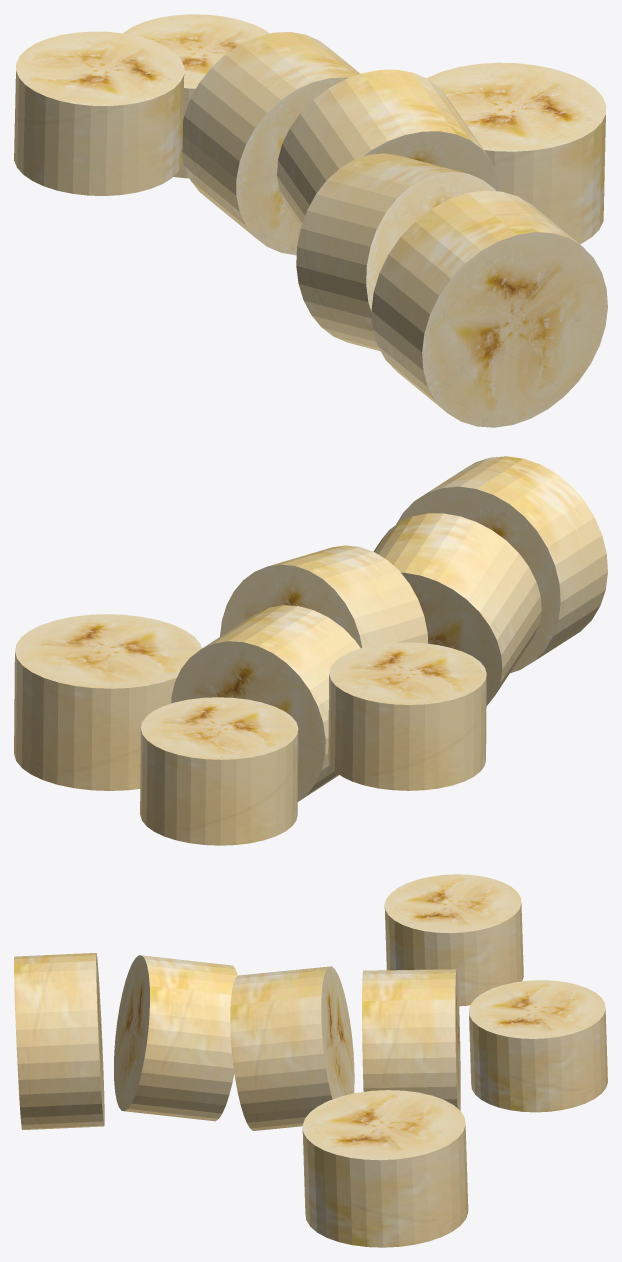
Rendered from cutBanana.obj.
3 renders of one model, top to bottom at view 1: azimuth 30°, elevation 25°; view 2: azimuth 150°, elevation 25°; view 3: azimuth 270°, elevation 25°, orthographic. The views are drawn at different scales.
Parts seen in each view (by area): view 1: Cylinder.002_Cylinder.000, Cylinder.006_Cylinder.007, Cylinder.002, Cylinder.001_Cylinder.008, Cylinder.003_Cylinder.000, Cylinder.005_Cylinder.006, Cylinder.004_Cylinder.005; view 2: Cylinder.001_Cylinder.008, Cylinder.004_Cylinder.005, Cylinder.006_Cylinder.007, Cylinder.002_Cylinder.000, Cylinder.003_Cylinder.000, Cylinder.002, Cylinder.005_Cylinder.006; view 3: Cylinder.001_Cylinder.008, Cylinder.003_Cylinder.000, Cylinder.005_Cylinder.006, Cylinder.004_Cylinder.005, Cylinder.002_Cylinder.000, Cylinder.006_Cylinder.007, Cylinder.002.
Part boxes in pixels (left/top/right/bottom): Cylinder.002_Cylinder.000: left=371, top=190, right=607, bottom=427; Cylinder.006_Cylinder.007: left=14, top=31, right=184, bottom=195; Cylinder.002: left=182, top=32, right=360, bottom=255; Cylinder.001_Cylinder.008: left=427, top=62, right=606, bottom=244; Cylinder.003_Cylinder.000: left=296, top=153, right=496, bottom=351; Cylinder.005_Cylinder.006: left=277, top=69, right=499, bottom=225; Cylinder.004_Cylinder.005: left=123, top=14, right=269, bottom=178; Cylinder.001_Cylinder.008: left=14, top=614, right=201, bottom=790; Cylinder.004_Cylinder.005: left=140, top=697, right=298, bottom=845; Cylinder.006_Cylinder.007: left=328, top=642, right=486, bottom=790; Cylinder.002_Cylinder.000: left=396, top=456, right=607, bottom=673; Cylinder.003_Cylinder.000: left=373, top=513, right=541, bottom=705; Cylinder.002: left=171, top=605, right=360, bottom=801; Cylinder.005_Cylinder.006: left=220, top=545, right=427, bottom=648; Cylinder.001_Cylinder.008: left=302, top=1090, right=468, bottom=1247; Cylinder.003_Cylinder.000: left=114, top=955, right=237, bottom=1121; Cylinder.005_Cylinder.006: left=230, top=966, right=354, bottom=1130; Cylinder.004_Cylinder.005: left=469, top=980, right=607, bottom=1112; Cylinder.002_Cylinder.000: left=14, top=953, right=104, bottom=1130; Cylinder.006_Cylinder.007: left=384, top=874, right=523, bottom=1006; Cylinder.002: left=362, top=969, right=460, bottom=1110.
Bounding box in the file's own units: 21.49 × 8.43 × 26.02.
Materials: 7 (7 with a texture image).
